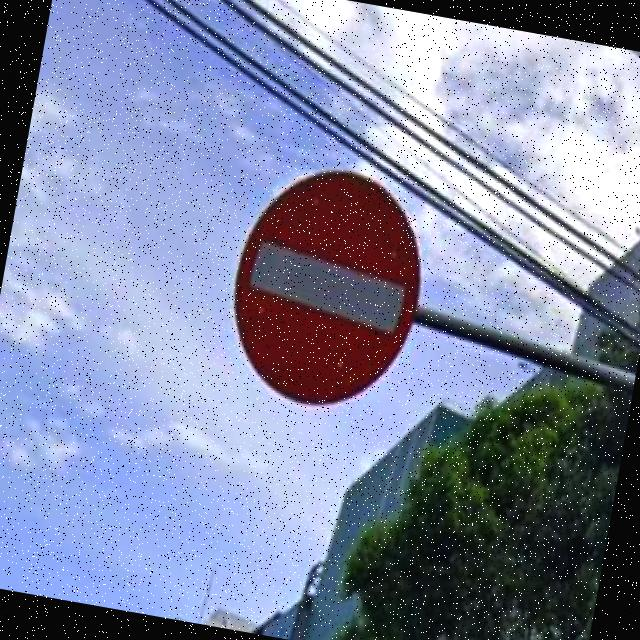Zakaz wjazdu: (217, 155, 438, 420)
